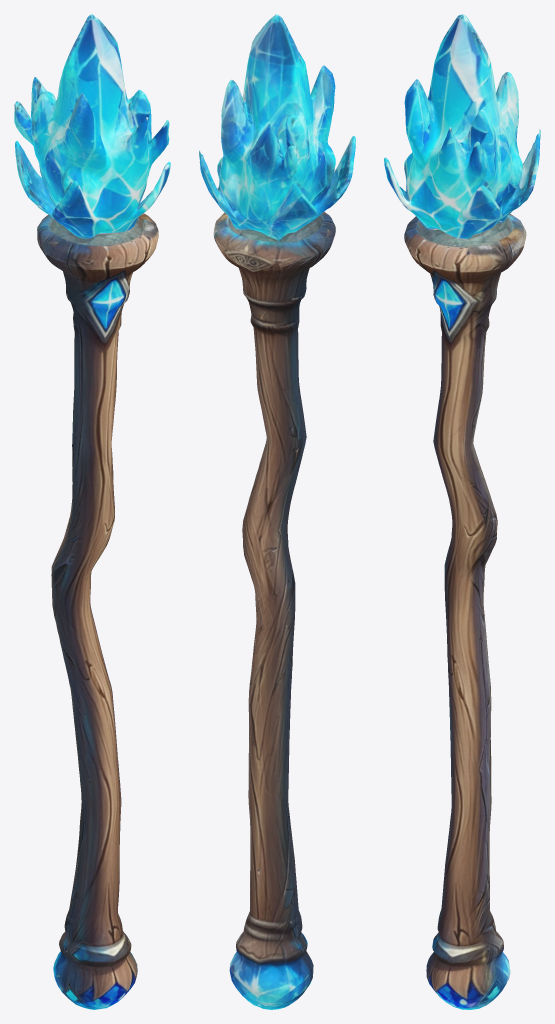
Rendered from druids-whisperwood.glb.
3 renders of one model, left to right at view 1: azimuth 30°, elevation 25°; view 2: azimuth 150°, elevation 25°; view 3: azimuth 330°, elevation 25°, orthographic.
Size of the model in its own units: 0.2348 by 1.99 by 0.2491.
1 material, 1 textured.
